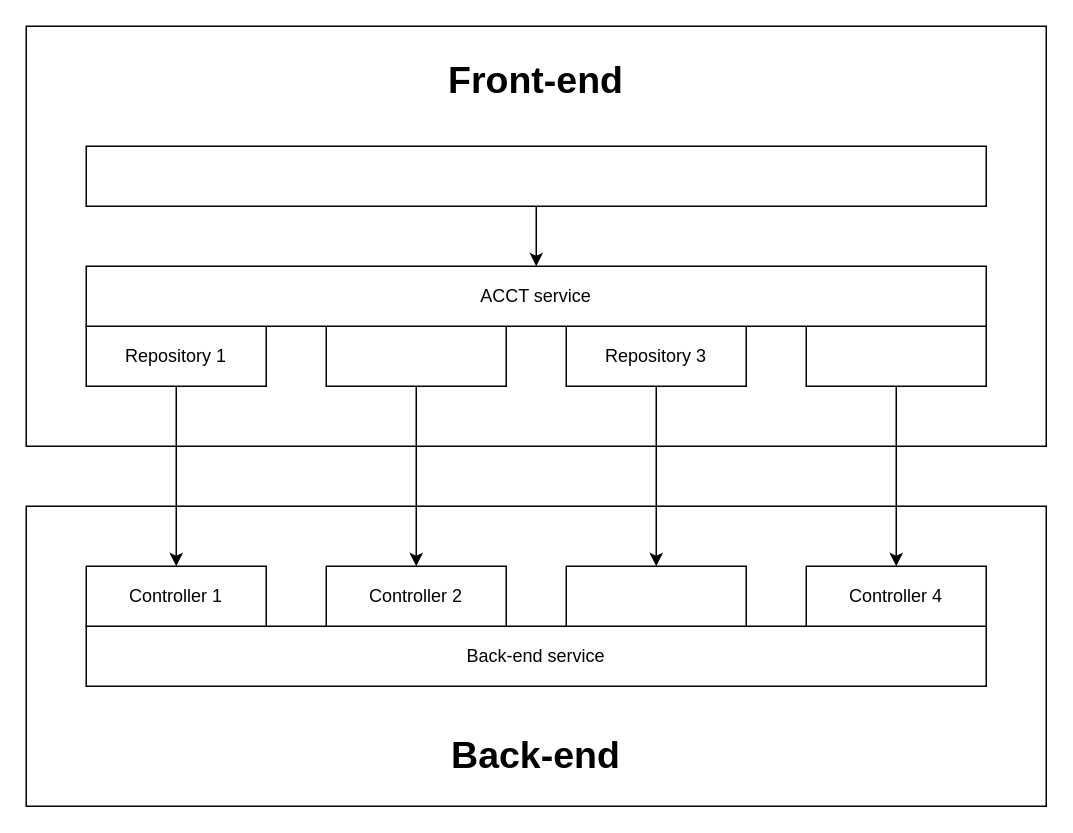
This 1073x833 diagram has some shape labels left out. The centre of each missing label's shape, as x and y in pixels:
ACCT page / component: point 535,175
Controller 3: point 655,595
Repository 2: point 415,355
Repository 4: point 895,355
